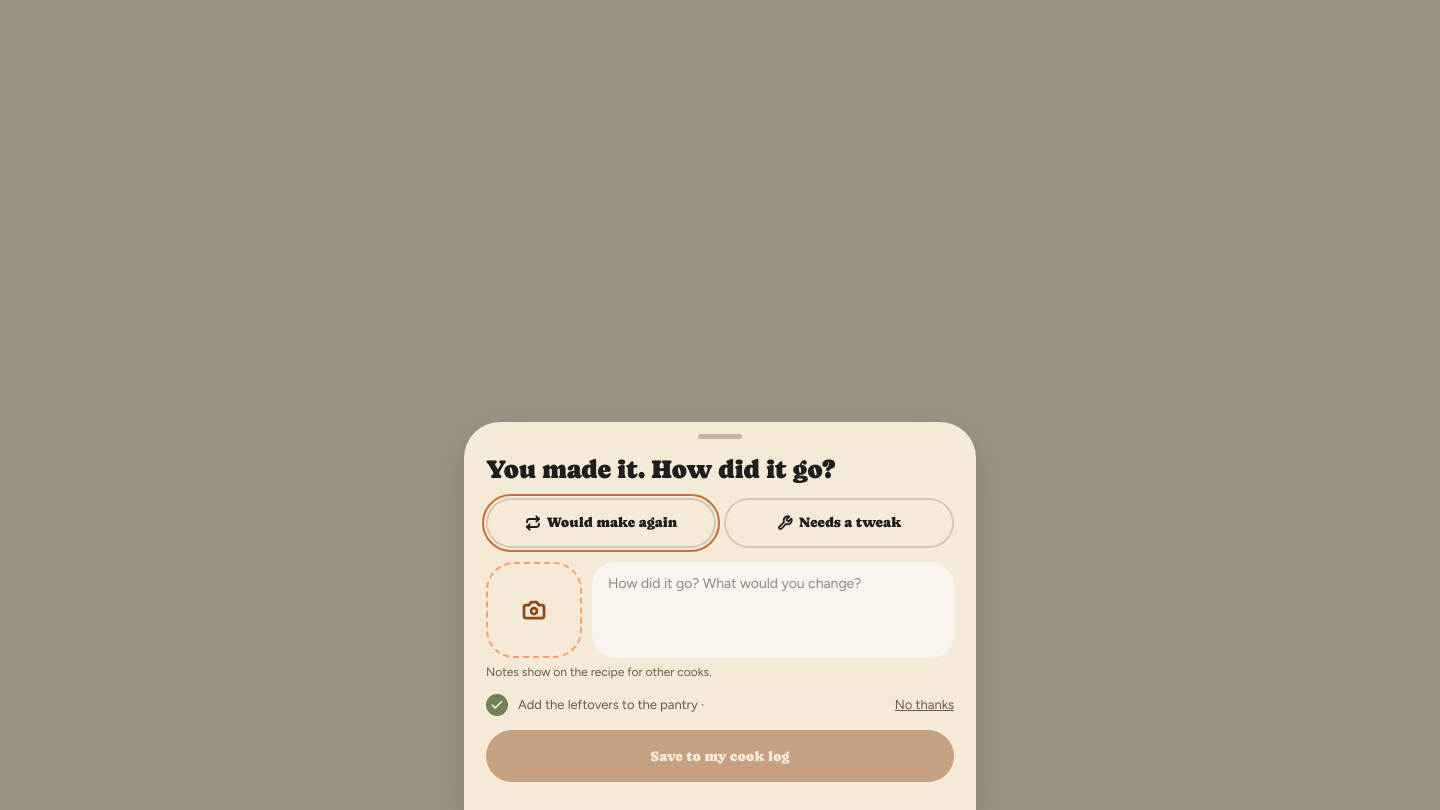
Test: CookedSheet › needs a vote before saving
The width and height of the screenshot is (1440, 810).
Expected: the button "Save to my cook log" is disabled, [486,730,954,782]
Click the radio button labelled "Would make again".
click(601, 523)  # box [486,498,716,548]
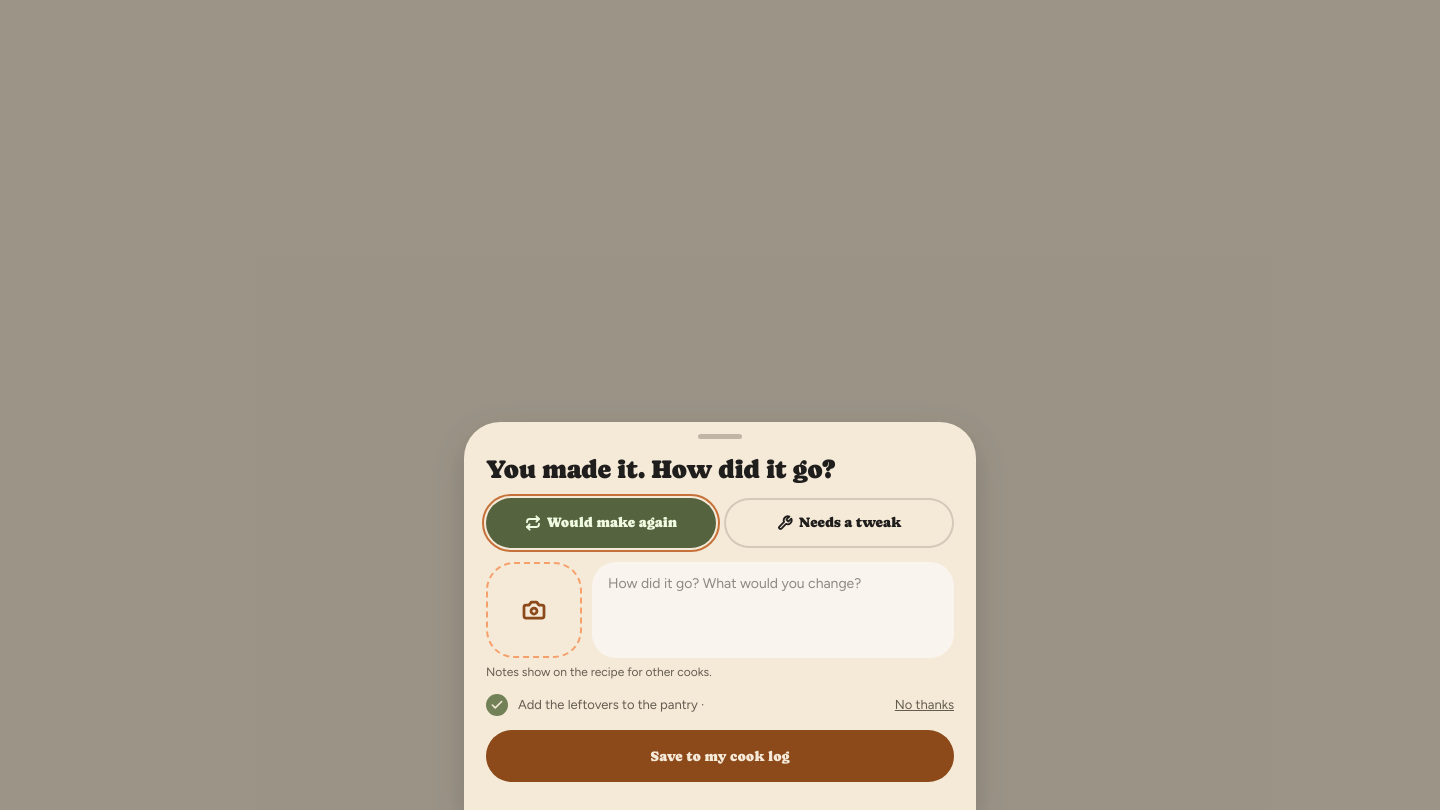
Now the button "Save to my cook log" is enabled, box [486,730,954,782]
